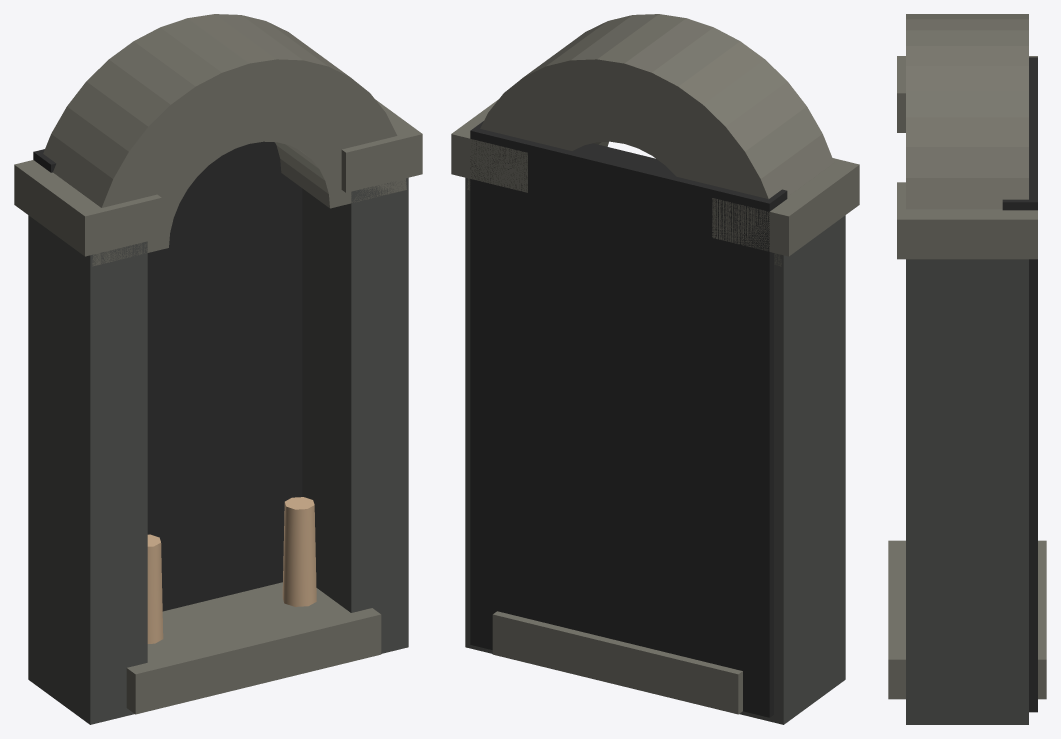
The model's file is sk_crypt_niche.glb.
The picture shows the model from 3 angles, left to right: view 1: azimuth 30°, elevation 25°; view 2: azimuth 150°, elevation 25°; view 3: azimuth 270°, elevation 25°; orthographic projection.
Parts seen in each view (by area): view 1: stone, object 3, plaster; view 2: object 3, stone; view 3: stone, object 3.
Part boxes in pixels (x1,y1,x2,y2): stone: (14, 14, 422, 724); object 3: (33, 141, 302, 611); plaster: (147, 497, 316, 643); object 3: (470, 121, 787, 717); stone: (451, 14, 859, 724); stone: (888, 14, 1046, 724); object 3: (1002, 57, 1037, 712).
Bounding box in the file's own units: 0.88 × 1.55 × 0.36.
